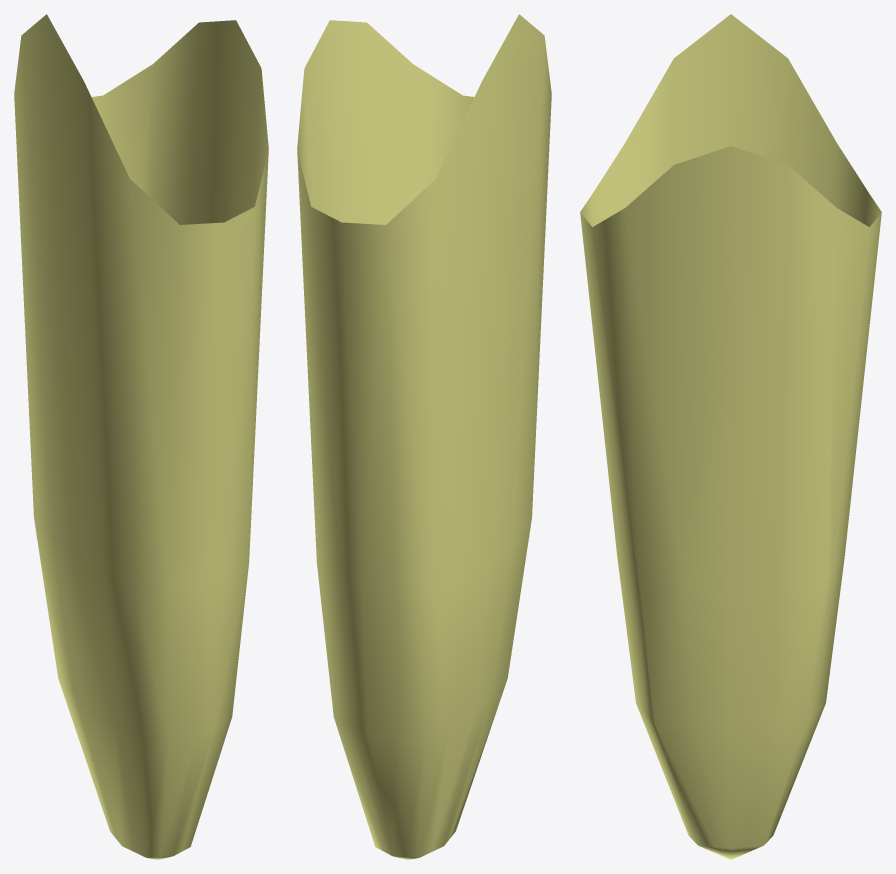
Rendered from D32R_Raiz.obj.
3 views of the same model, side by side, from view 1: azimuth 30°, elevation 25°; view 2: azimuth 150°, elevation 25°; view 3: azimuth 270°, elevation 25° (orthographic). The views are drawn at different scales.
Visible parts, largest first — view 1: D32R_Raiz; view 2: D32R_Raiz; view 3: D32R_Raiz.
Boxes of the visible parts, left/top/right/bottom form: D32R_Raiz: left=14, top=14, right=268, bottom=859; D32R_Raiz: left=297, top=14, right=551, bottom=859; D32R_Raiz: left=580, top=14, right=881, bottom=859.
Size of the model in its own units: 3.51 by 15.45 by 5.31.
